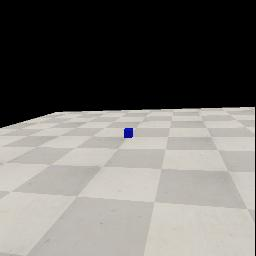box: (124, 128, 133, 138)
